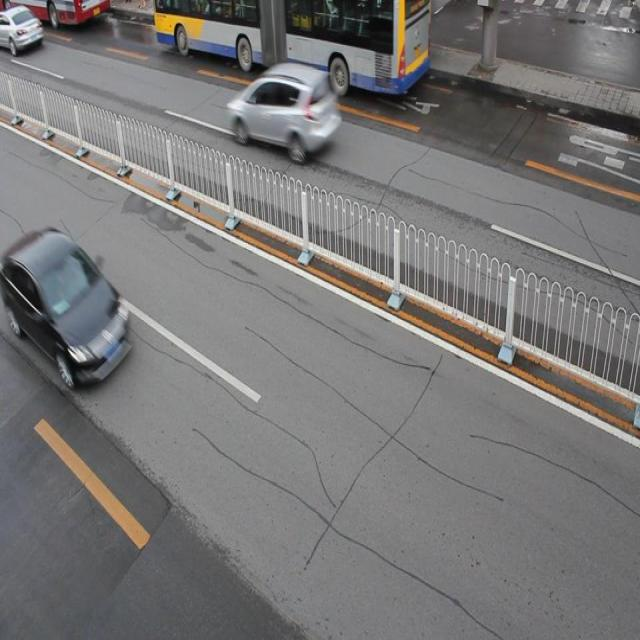car: (1, 225, 130, 384), (229, 61, 340, 159), (1, 1, 44, 55)
van: (153, 1, 428, 89), (1, 1, 112, 23)
